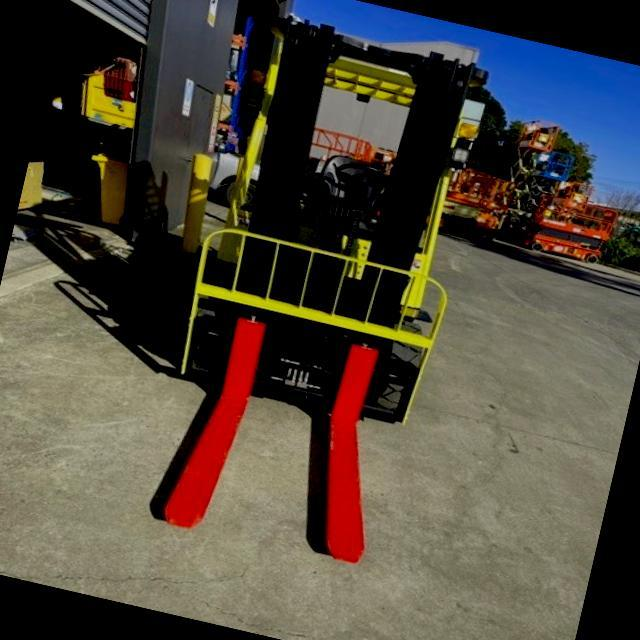forklift: (146, 0, 515, 457)
